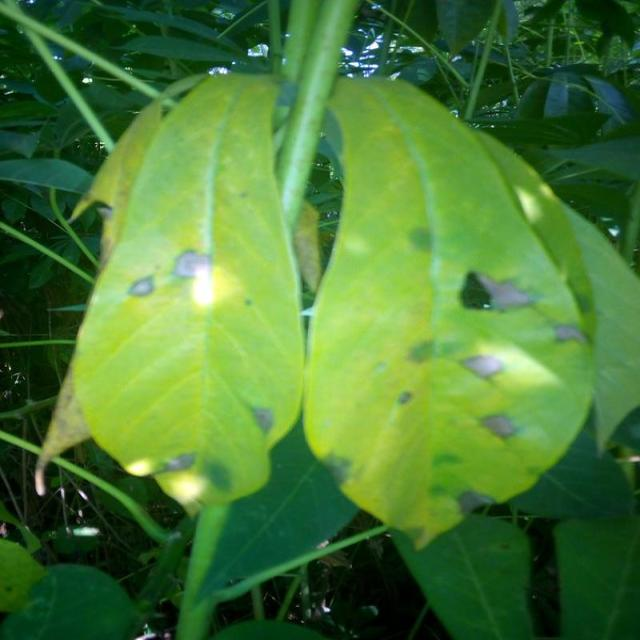cassava leaf: (300, 72, 598, 550), (67, 70, 306, 516)
